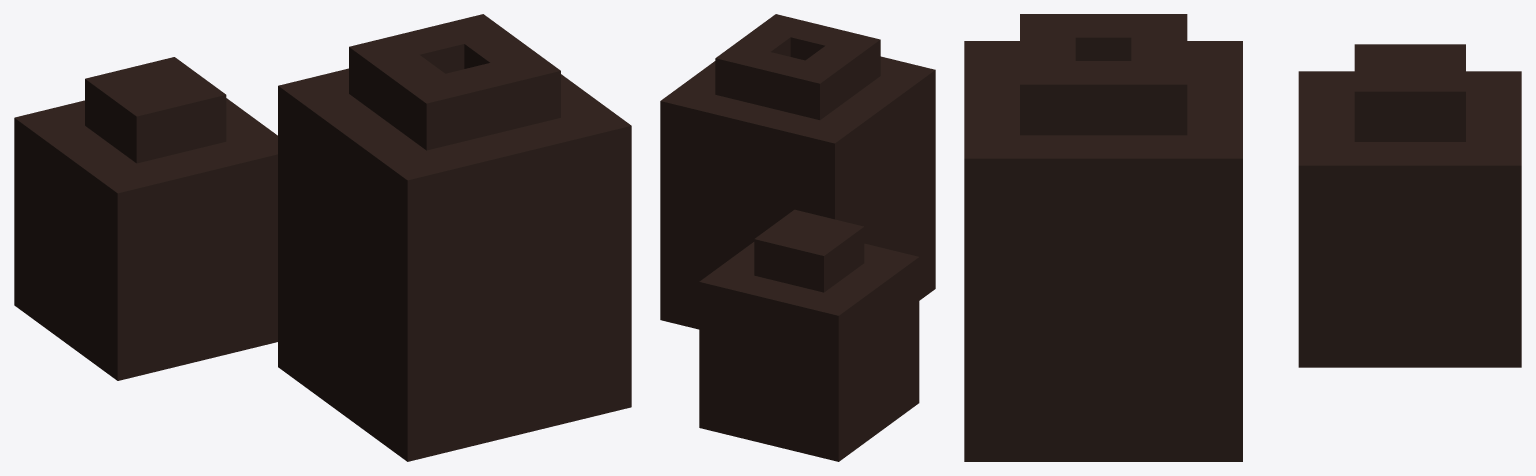
The model's file is pots_1.obj.
The picture shows the model from 3 angles, left to right: view 1: azimuth 30°, elevation 25°; view 2: azimuth 150°, elevation 25°; view 3: azimuth 270°, elevation 25°; orthographic projection. The views are drawn at different scales.
Bounding box in the file's own units: 0.8 × 0.7 × 1.
1 material, 1 textured.
